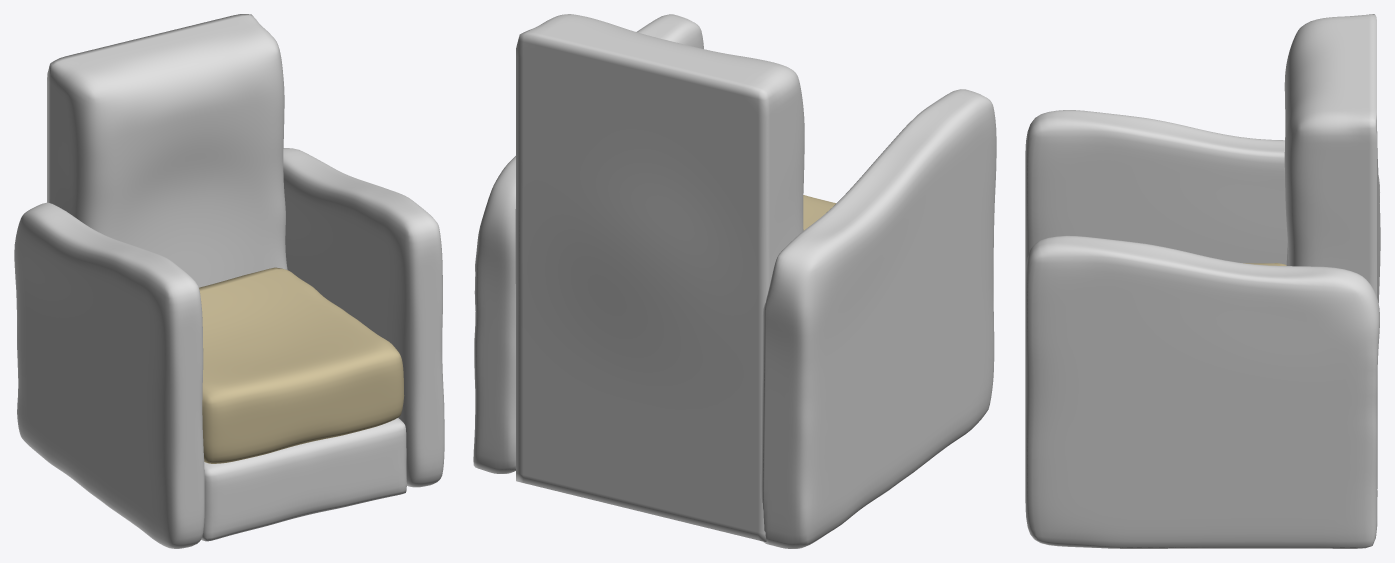
The model's file is RockingChair.fbx.
3 renders of one model, left to right at view 1: azimuth 30°, elevation 25°; view 2: azimuth 150°, elevation 25°; view 3: azimuth 270°, elevation 25°, orthographic. The views are drawn at different scales.
Visible parts, largest first — view 1: Back, RightArm, Seat, LeftArm, Base; view 2: Back, RightArm, LeftArm, Seat; view 3: LeftArm, RightArm, Back.
Part boxes in pixels (box(x1,y1,x2,y2)): Back: box(47, 14, 287, 287); RightArm: box(14, 202, 204, 548); Seat: box(199, 267, 404, 463); LeftArm: box(283, 148, 444, 487); Base: box(201, 418, 406, 541); Back: box(515, 14, 804, 541); RightArm: box(760, 89, 996, 548); LeftArm: box(473, 14, 703, 473); Seat: box(803, 195, 835, 230); LeftArm: box(1025, 235, 1379, 548); RightArm: box(1025, 110, 1379, 276); Back: box(1284, 14, 1380, 302).
Size of the model in its own units: 1.37 by 1.86 by 1.36.
